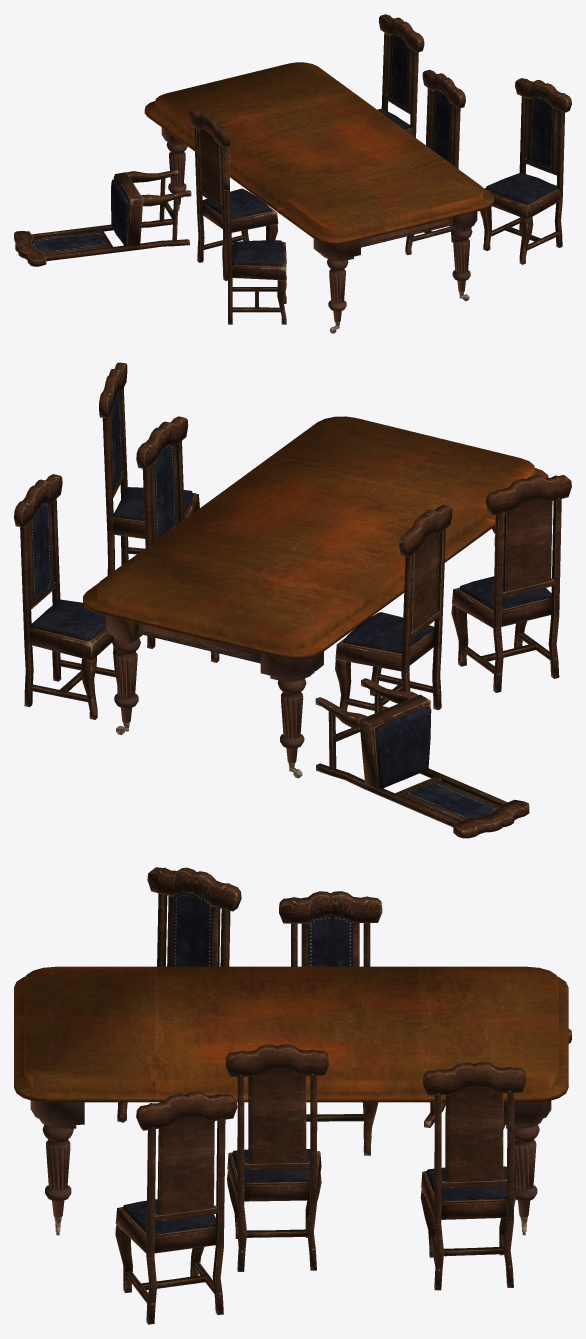
The model's file is i_tisch.glb.
3 renders of one model, top to bottom at view 1: azimuth 30°, elevation 25°; view 2: azimuth 150°, elevation 25°; view 3: azimuth 270°, elevation 25°, orthographic. The views are drawn at different scales.
Visible parts, largest first — view 1: Test-material, Material-material; view 2: Test-material, Material-material; view 3: Test-material, Material-material.
Part boxes in pixels (bbox=[...]): Test-material: bbox=[144, 62, 494, 333]; Material-material: bbox=[14, 14, 571, 324]; Test-material: bbox=[83, 416, 548, 778]; Material-material: bbox=[14, 362, 571, 838]; Test-material: bbox=[14, 966, 568, 1235]; Material-material: bbox=[115, 867, 571, 1324].
Bounding box in the file's own units: 6.55 × 2.3 × 5.13.
Materials: 2 (2 with a texture image).
